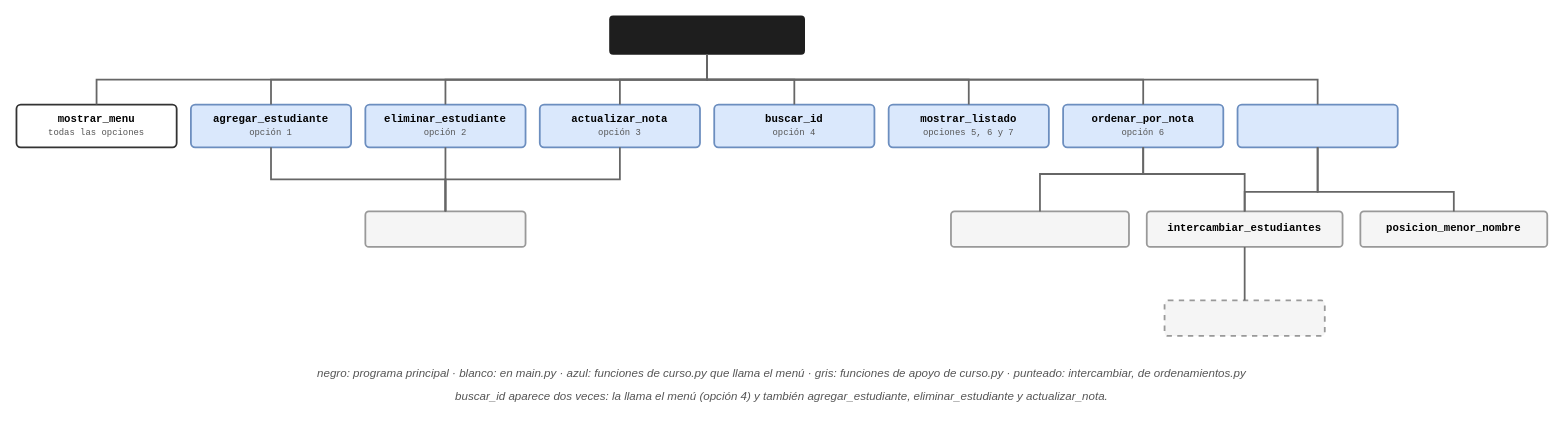
This 1563x422 diagram has some shape labels left out. The centre of each missing label's shape, as x and y in pixels:
"buscar_id" belongs at point 445,228.
"intercambiar" belongs at point 1244,317.
"main (el menú)" belongs at point 707,34.
"ordenar_por_nombre opción 7" belongs at point 1317,125.
"posicion_mayor_nota" belongs at point 1039,228.
